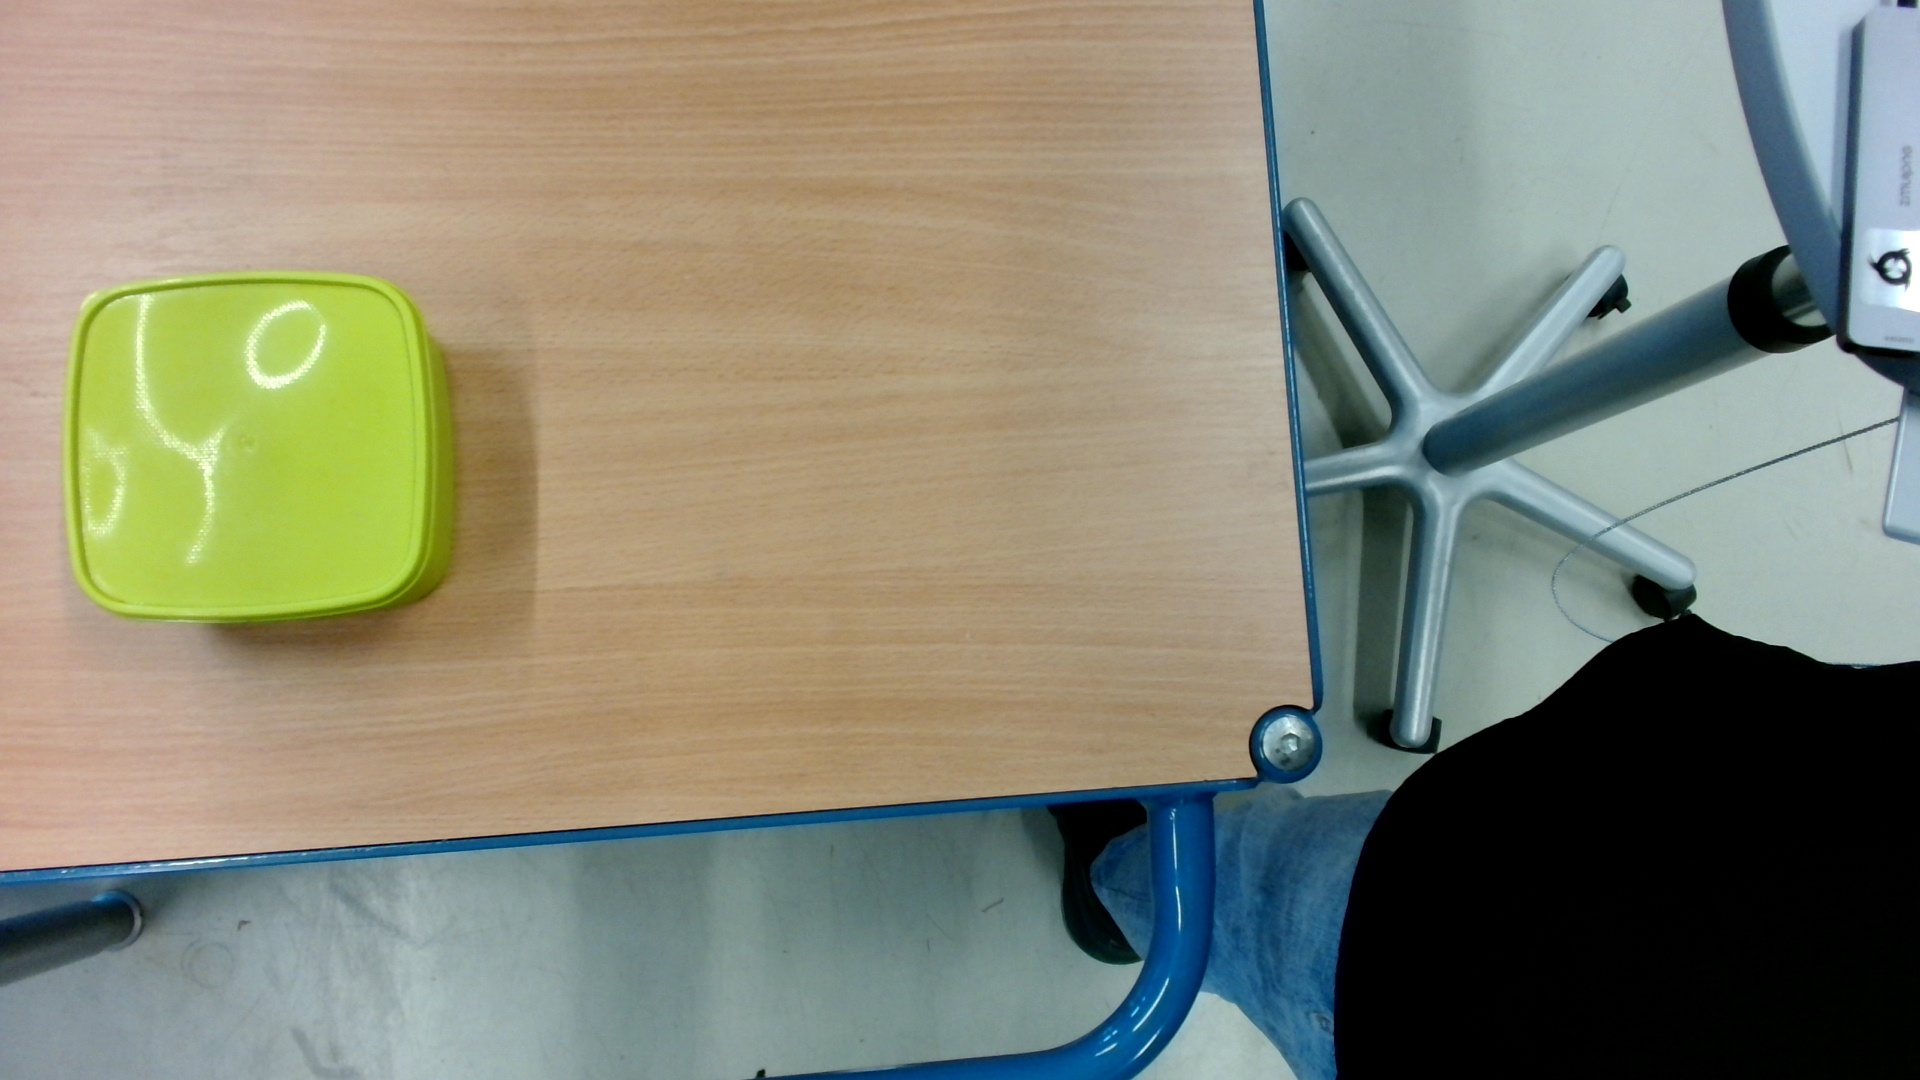Box: (55, 264, 463, 644)
